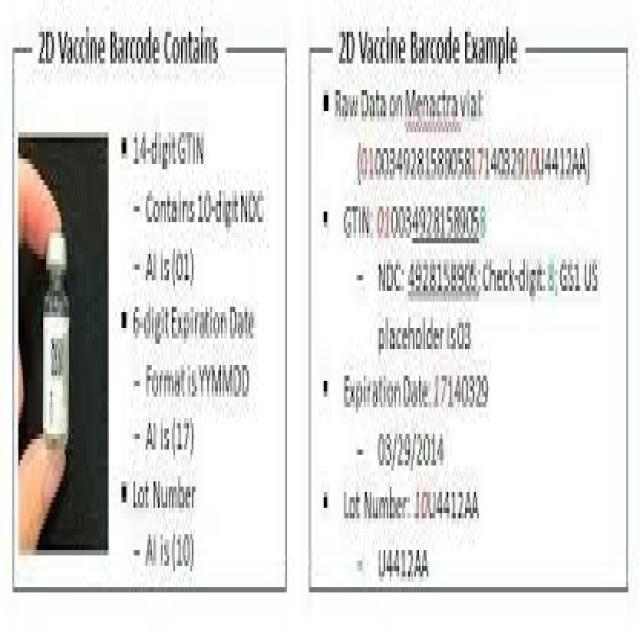datamatrix: (48, 323, 66, 402)
